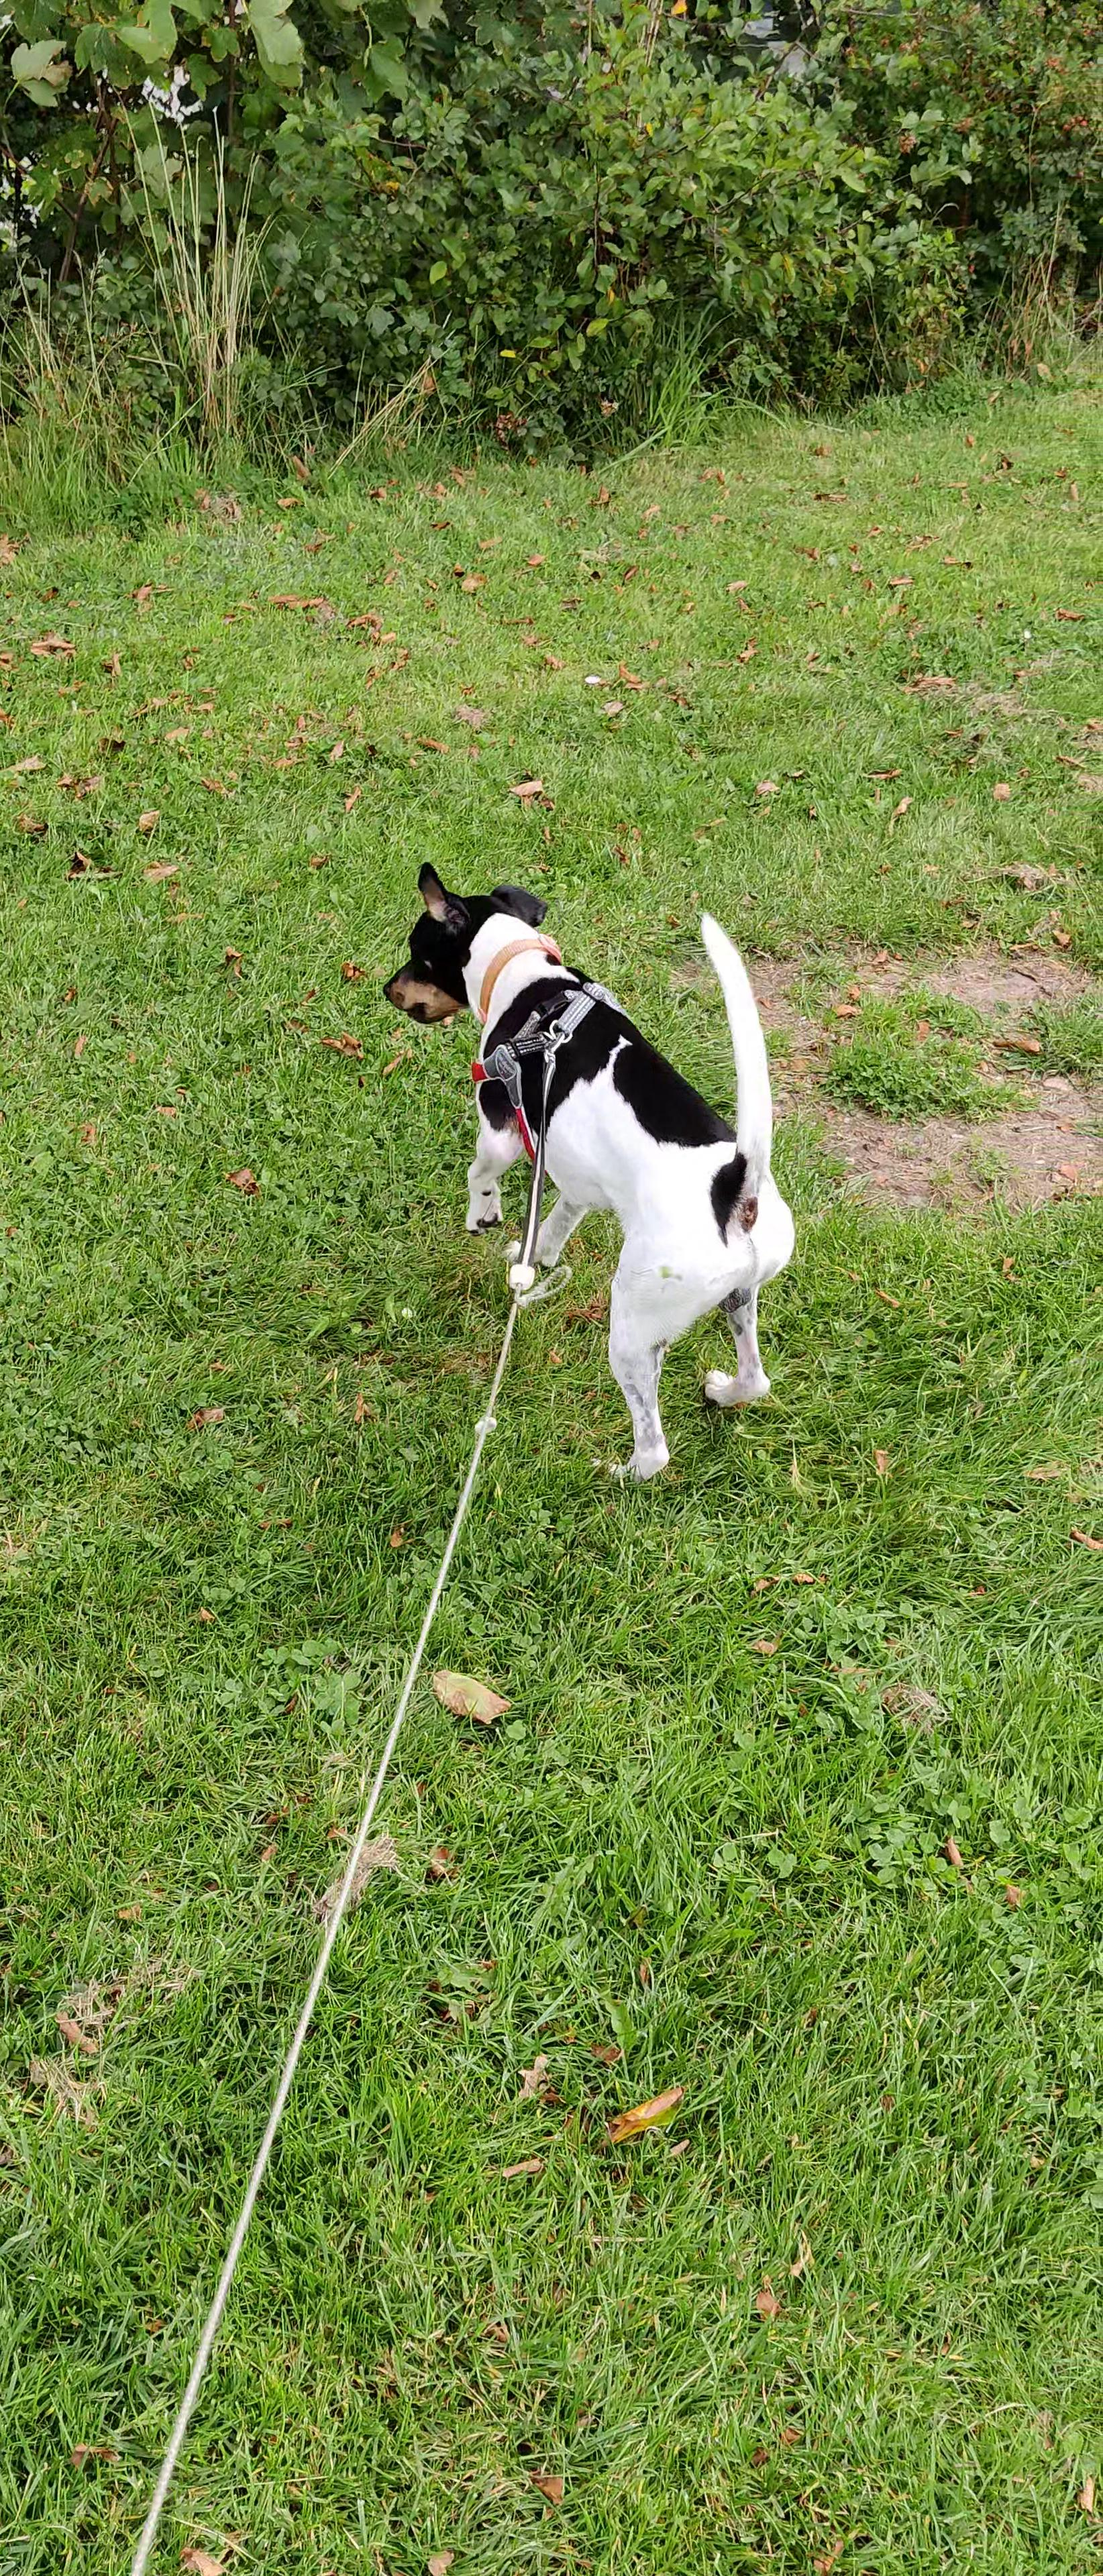Dog: (357, 849, 805, 1508)
